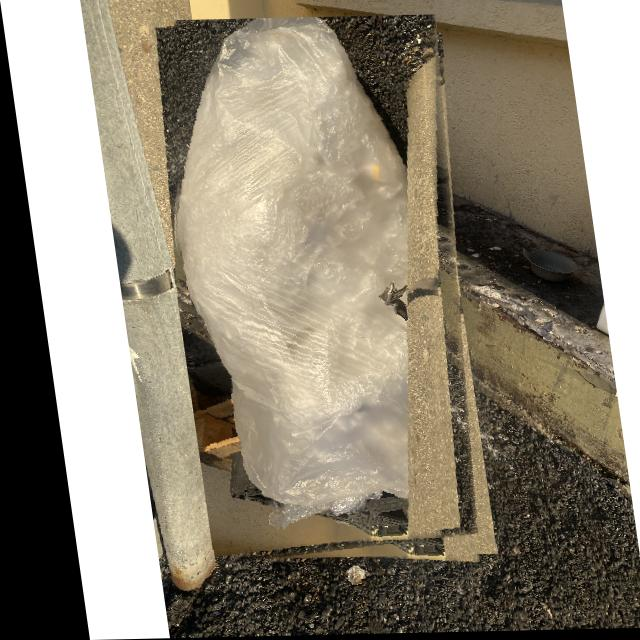other_trashbag: (174, 17, 438, 551)
